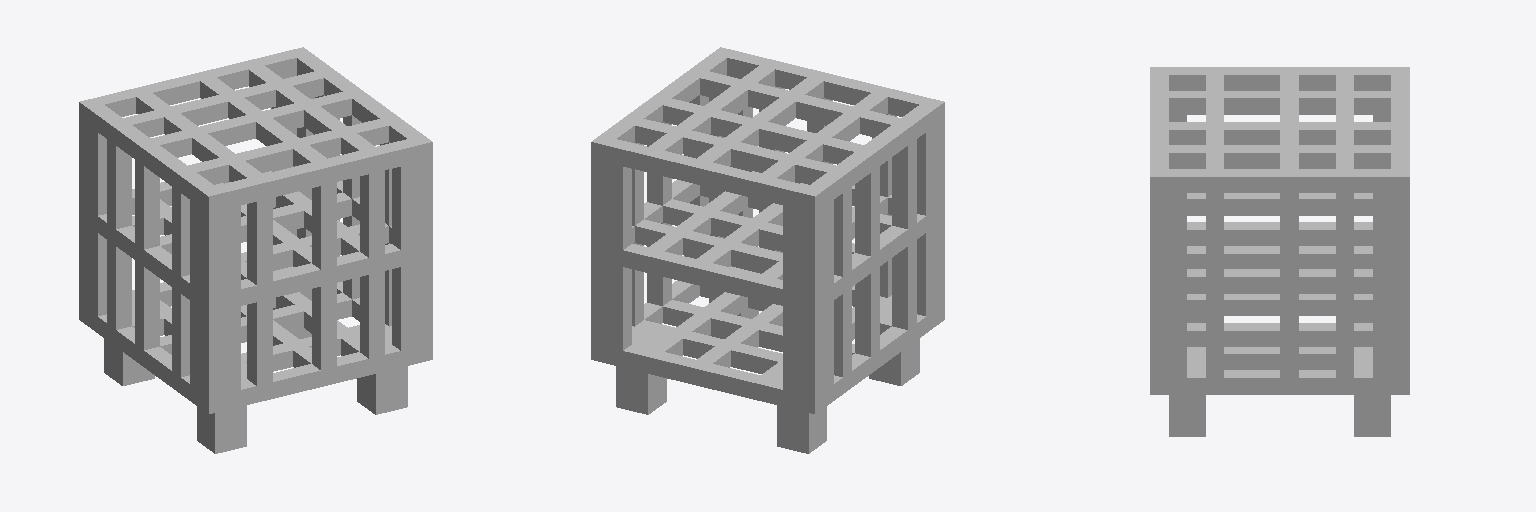
Rendered from super_computer_rack.obj.
3 renders of one model, left to right at view 1: azimuth 30°, elevation 25°; view 2: azimuth 150°, elevation 25°; view 3: azimuth 270°, elevation 25°, orthographic.
Parts seen in each view (by area): view 1: node_0_0_0; view 2: node_0_0_0; view 3: node_0_0_0.
Boxes of the visible parts, box(x1,y1,x2,y2) form: node_0_0_0: box(79, 47, 432, 453); node_0_0_0: box(591, 47, 944, 453); node_0_0_0: box(1150, 67, 1409, 436).
Size of the model in its own units: 0.875 by 1 by 0.875.